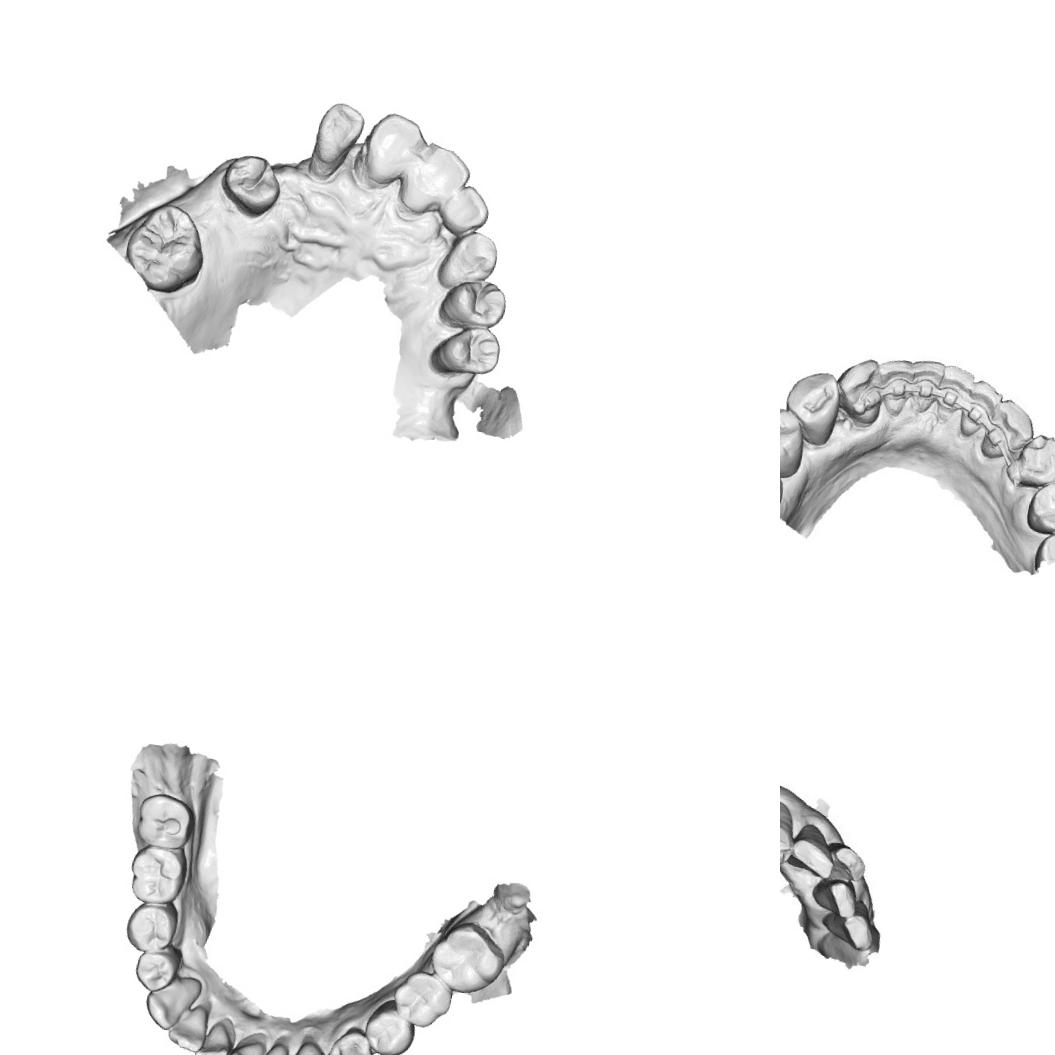canine: (827, 351, 893, 429), (432, 224, 503, 296), (138, 968, 204, 1036), (978, 392, 1037, 463), (780, 794, 796, 868), (284, 1036, 331, 1055)
incisor: (396, 136, 478, 222), (356, 106, 433, 192), (310, 98, 370, 170), (436, 178, 495, 237), (934, 360, 980, 422), (786, 828, 840, 880), (163, 999, 213, 1055), (873, 356, 917, 411), (959, 377, 1001, 434), (823, 836, 868, 888), (812, 872, 856, 920), (906, 358, 944, 410), (191, 1015, 239, 1055), (832, 916, 875, 950), (221, 1033, 266, 1055), (243, 1036, 293, 1055)
molar: (120, 195, 214, 300), (423, 914, 510, 1000), (122, 841, 192, 910), (387, 964, 457, 1032), (132, 788, 198, 853)
premolar: (215, 145, 288, 219), (435, 270, 512, 334), (429, 318, 504, 381), (782, 368, 842, 441), (358, 995, 420, 1055), (120, 899, 180, 956), (130, 942, 184, 996), (1005, 431, 1055, 489), (323, 1022, 378, 1055), (780, 406, 803, 469), (1029, 479, 1055, 530)
